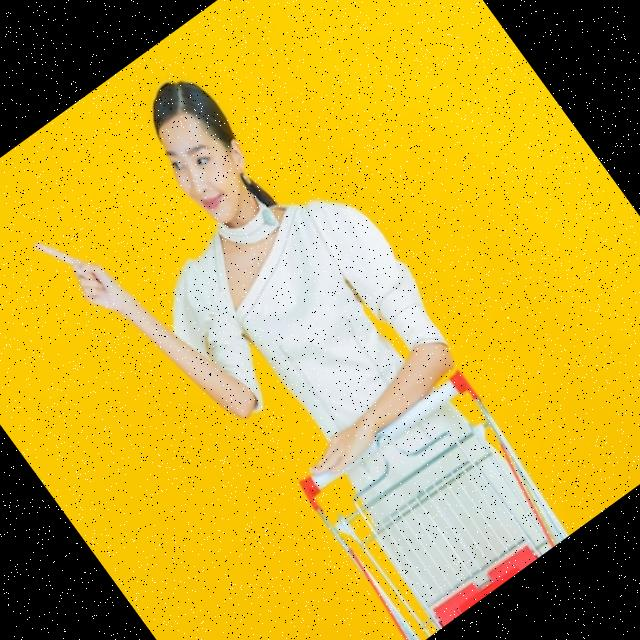Person: (0, 28, 591, 640)
